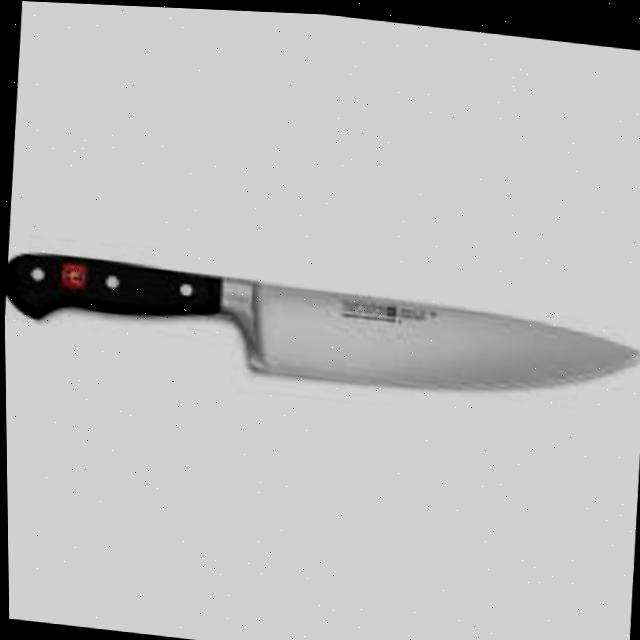knife: (3, 246, 640, 410)
